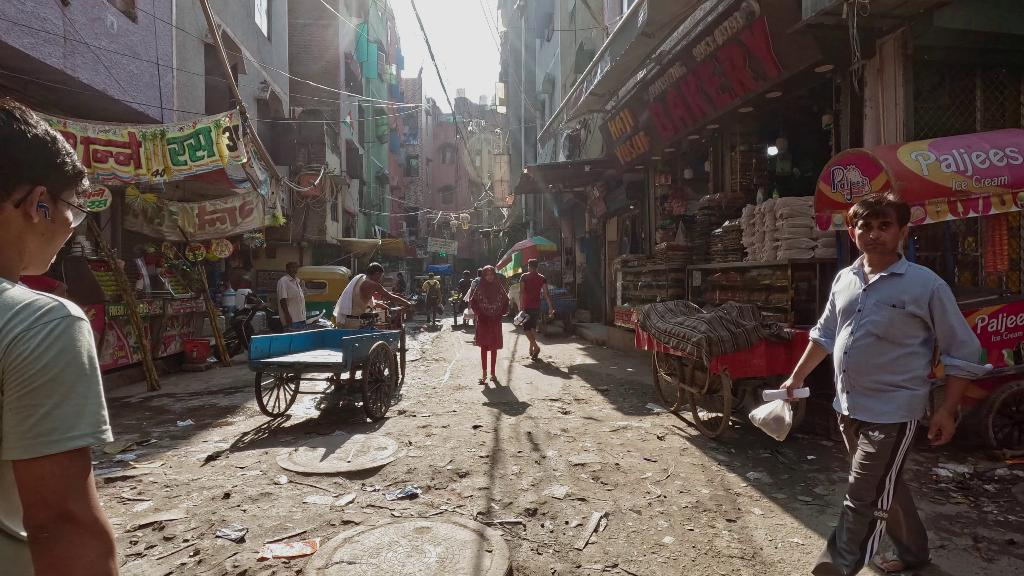dustbin: (184, 336, 212, 364)
garbage: (748, 395, 799, 443), (257, 536, 320, 559), (215, 523, 250, 543), (385, 485, 421, 501), (114, 454, 138, 462), (462, 308, 475, 320), (177, 419, 194, 426)
